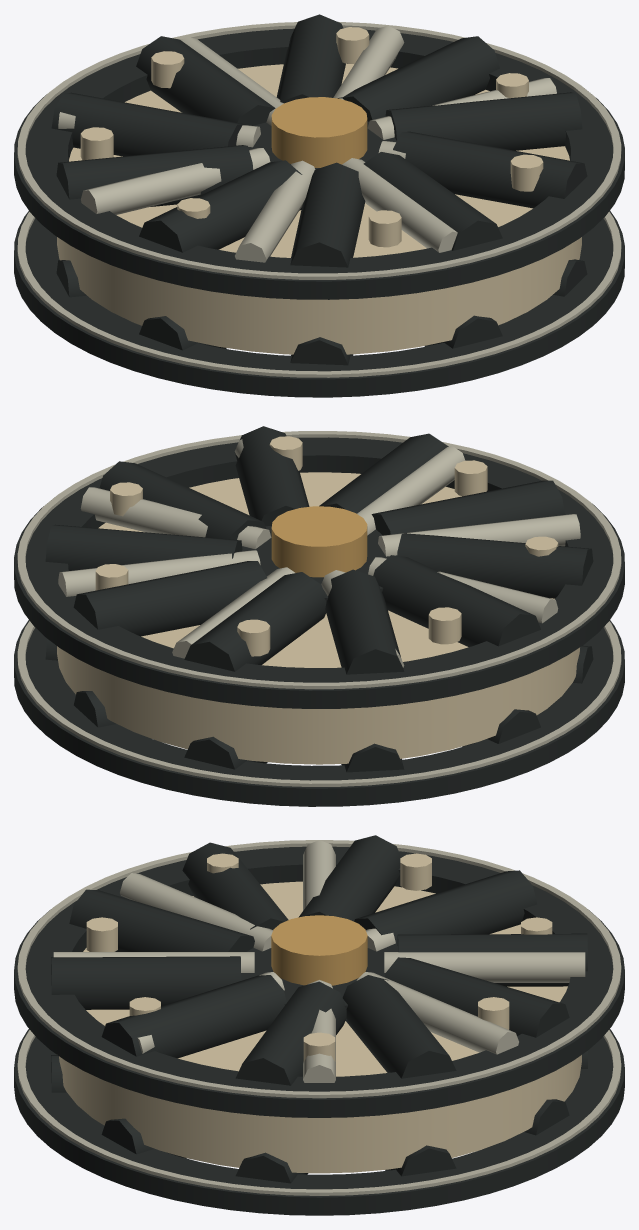
The model's file is Metropolitan.glb.
3 renders of one model, top to bottom at view 1: azimuth 30°, elevation 25°; view 2: azimuth 150°, elevation 25°; view 3: azimuth 270°, elevation 25°, orthographic.
Visible parts, largest first — view 1: Pressed web (×15), Stamped outer rim (×2), Wound correction stock, Raised spoke (×7), Pressed lip (×2), Take-up pin (×7), Spindle, Spool hub; view 2: Pressed web (×14), Stamped outer rim (×2), Wound correction stock, Pressed lip (×2), Raised spoke (×6), Take-up pin (×7), Spindle, Spool hub; view 3: Pressed web (×14), Stamped outer rim (×2), Wound correction stock, Pressed lip (×2), Raised spoke (×6), Spindle, Take-up pin (×4), Spool hub.
Part boxes in pixels (left/top/right/bottom): Pressed web (×15): left=51, top=14, right=587, bottom=365; Stamped outer rim (×2): left=14, top=28, right=624, bottom=397; Wound correction stock: left=57, top=63, right=581, bottom=354; Raised spoke (×7): left=58, top=25, right=556, bottom=262; Pressed lip (×2): left=17, top=21, right=621, bottom=377; Take-up pin (×7): left=80, top=27, right=543, bottom=247; Spindle: left=271, top=97, right=367, bottom=167; Spool hub: left=236, top=121, right=396, bottom=169; Pressed web (×14): left=45, top=426, right=593, bottom=772; Stamped outer rim (×2): left=14, top=437, right=624, bottom=806; Wound correction stock: left=57, top=472, right=579, bottom=764; Pressed lip (×2): left=17, top=431, right=621, bottom=786; Raised spoke (×6): left=58, top=446, right=580, bottom=658; Take-up pin (×7): left=95, top=436, right=558, bottom=656; Spindle: left=271, top=506, right=367, bottom=577; Spool hub: left=241, top=526, right=396, bottom=612; Pressed web (×14): left=51, top=835, right=587, bottom=1183; Stamped outer rim (×2): left=14, top=846, right=624, bottom=1215; Wound correction stock: left=59, top=881, right=581, bottom=1173; Pressed lip (×2): left=17, top=840, right=621, bottom=1195; Raised spoke (×6): left=53, top=840, right=585, bottom=1082; Spindle: left=271, top=915, right=367, bottom=985; Take-up pin (×4): left=86, top=853, right=509, bottom=1061; Spool hub: left=241, top=943, right=397, bottom=1020.
Bounding box in the file's own units: 0.85 × 0.253 × 0.85.
